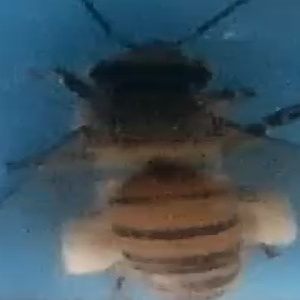bee: (23, 18, 300, 299)
